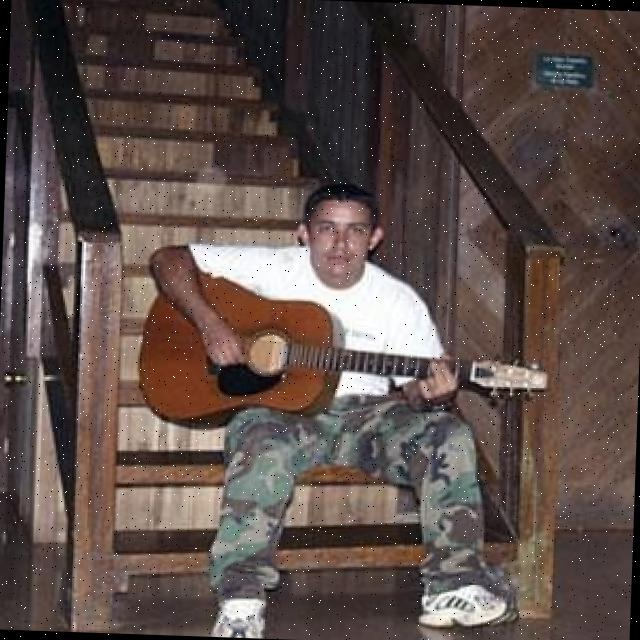guitar: (134, 264, 556, 442)
